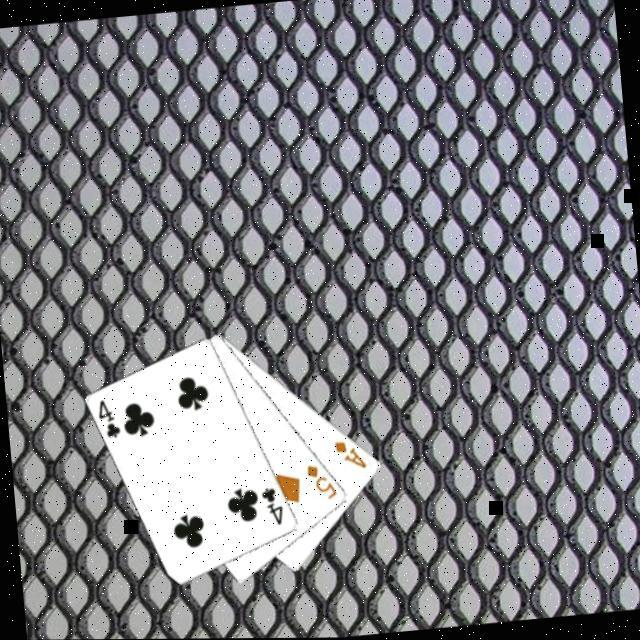4C: (95, 392, 126, 440), (259, 481, 289, 526)
5D: (304, 457, 342, 502)
AD: (332, 433, 372, 472)
